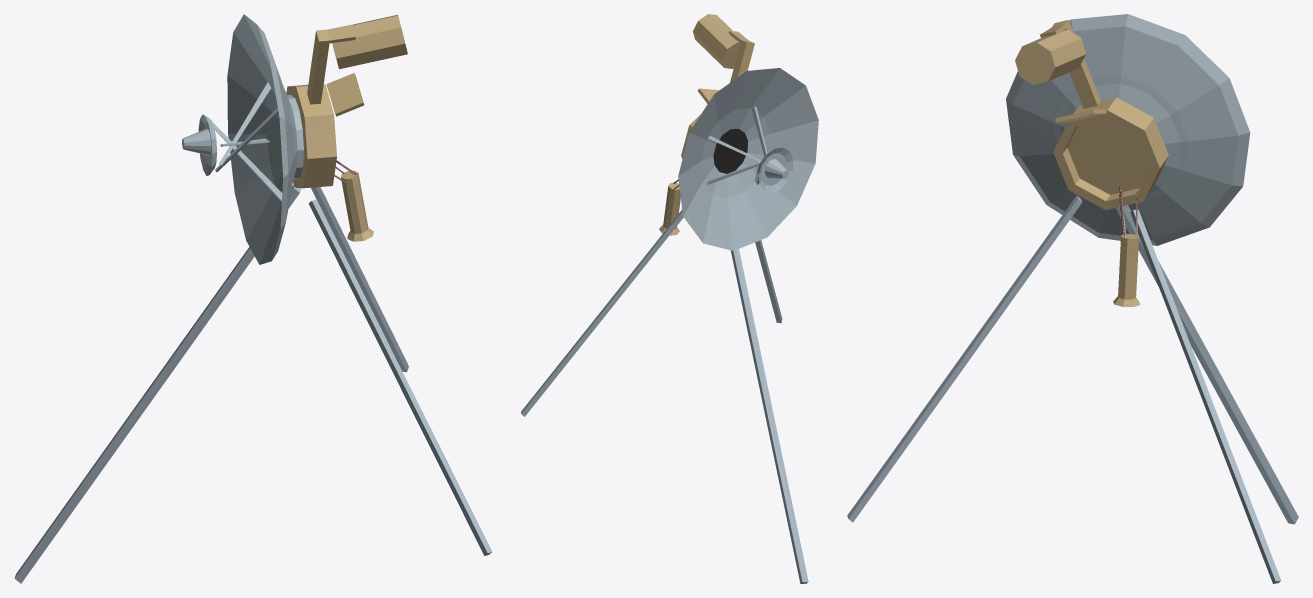
Rendered from voyager1.obj.
The picture shows the model from 3 angles, left to right: view 1: azimuth 30°, elevation 25°; view 2: azimuth 150°, elevation 25°; view 3: azimuth 270°, elevation 25°; orthographic projection. The views are drawn at different scales.
Visible parts, largest first — view 1: Cube; view 2: Cube; view 3: Cube.
Boxes of the visible parts, x1,y1,x2,y2 form: Cube: (14,14,492,583); Cube: (521,14,818,583); Cube: (847,14,1298,583).
Bounding box in the file's own units: 3.8 × 5.6 × 3.79.
